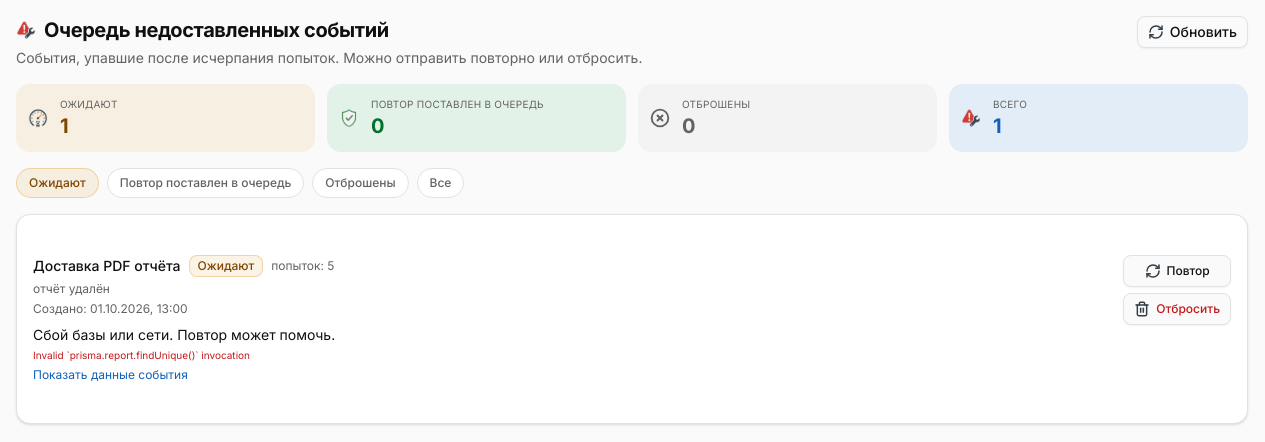
Test case: AdminDlq: смена отбора гасит прежнюю статистику (F-R128-17) › после клика по другому отбору плитки статистики скрыты вместе со списком
expect the text "Доставка PDF отчёта" is shown: met, box [33,256,181,276]
expect the text "Всего" is shown: met, box [993,96,1027,112]
Click the button "Все": (440, 183) [416,168,464,198]
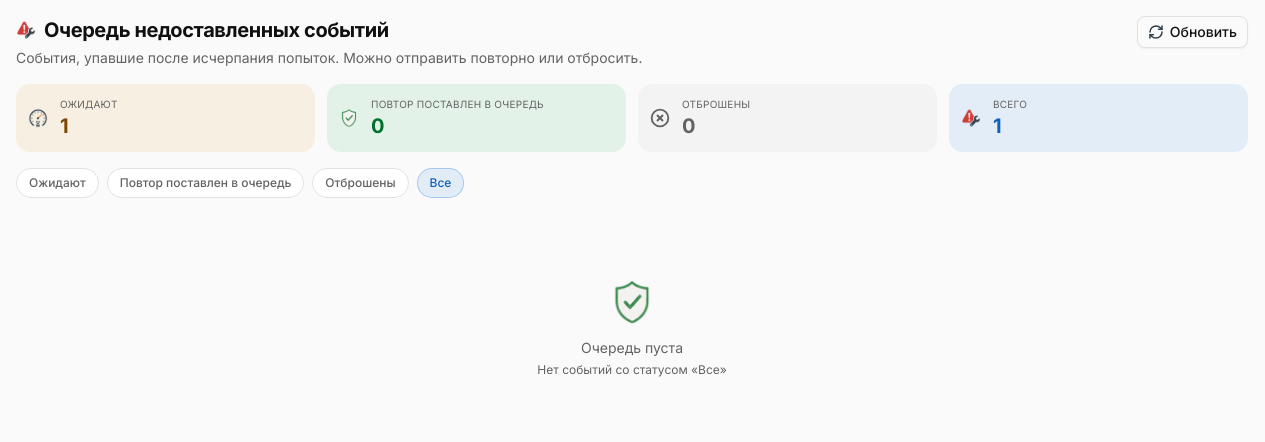
expect the text "Доставка PDF отчёта" is gone: met
